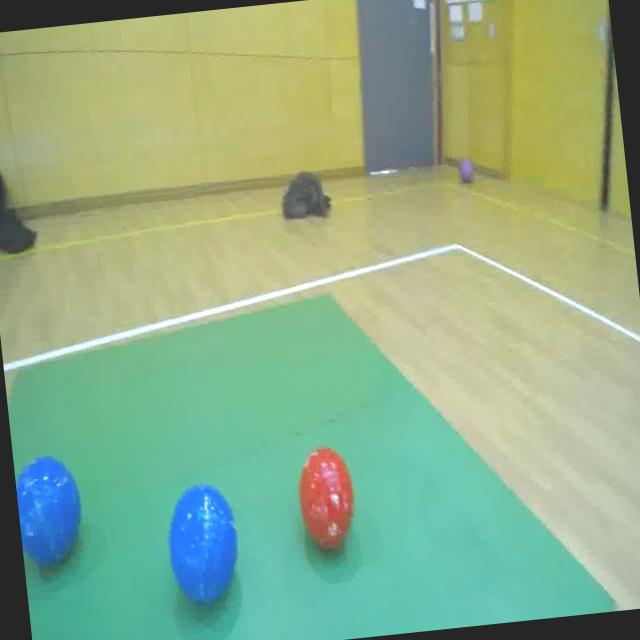blue_ball: (159, 475, 245, 610), (12, 447, 88, 576)
purple_ball: (457, 158, 475, 185)
red_ball: (292, 441, 362, 559)
